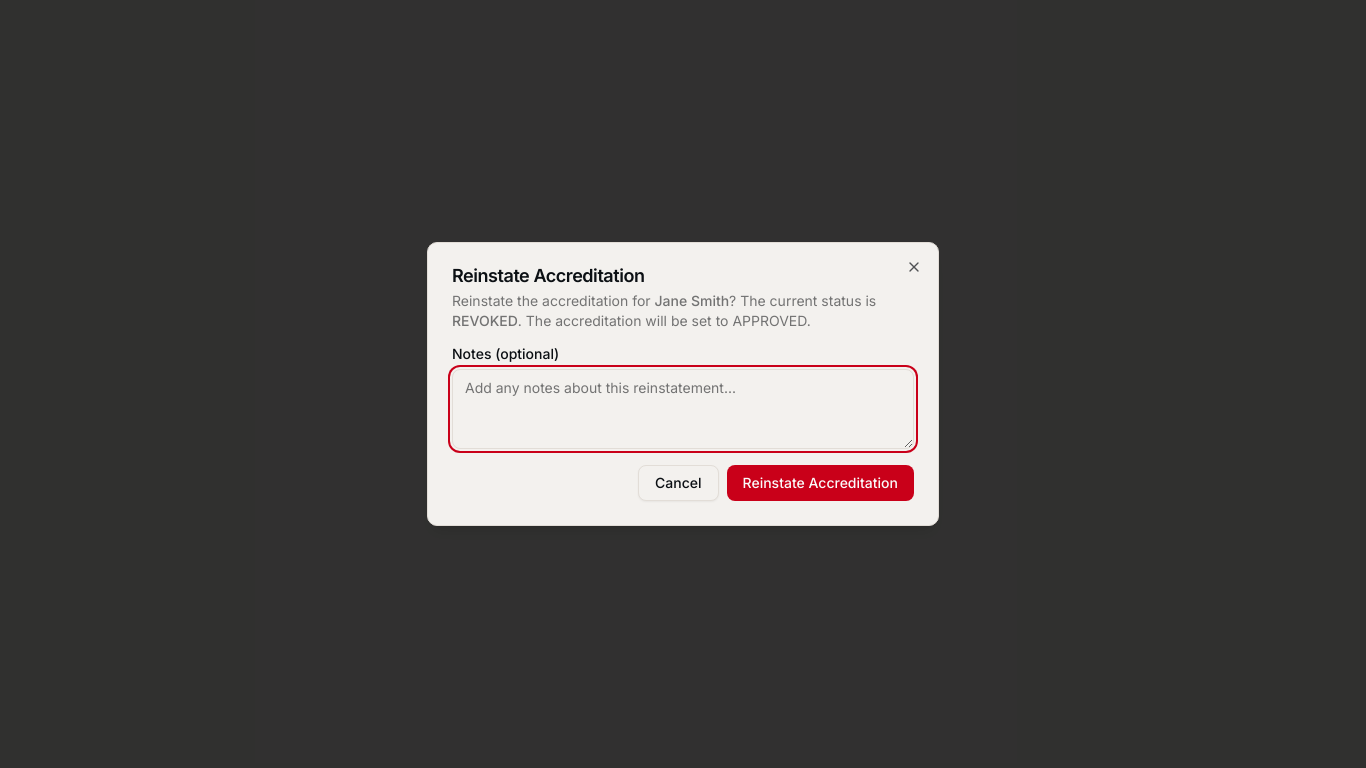
Test: ReinstateDialog › displays error message when API returns an error
The image size is (1366, 768).
Click the button "Reinstate Accreditation" at (820, 483), box [726,465,914,501]
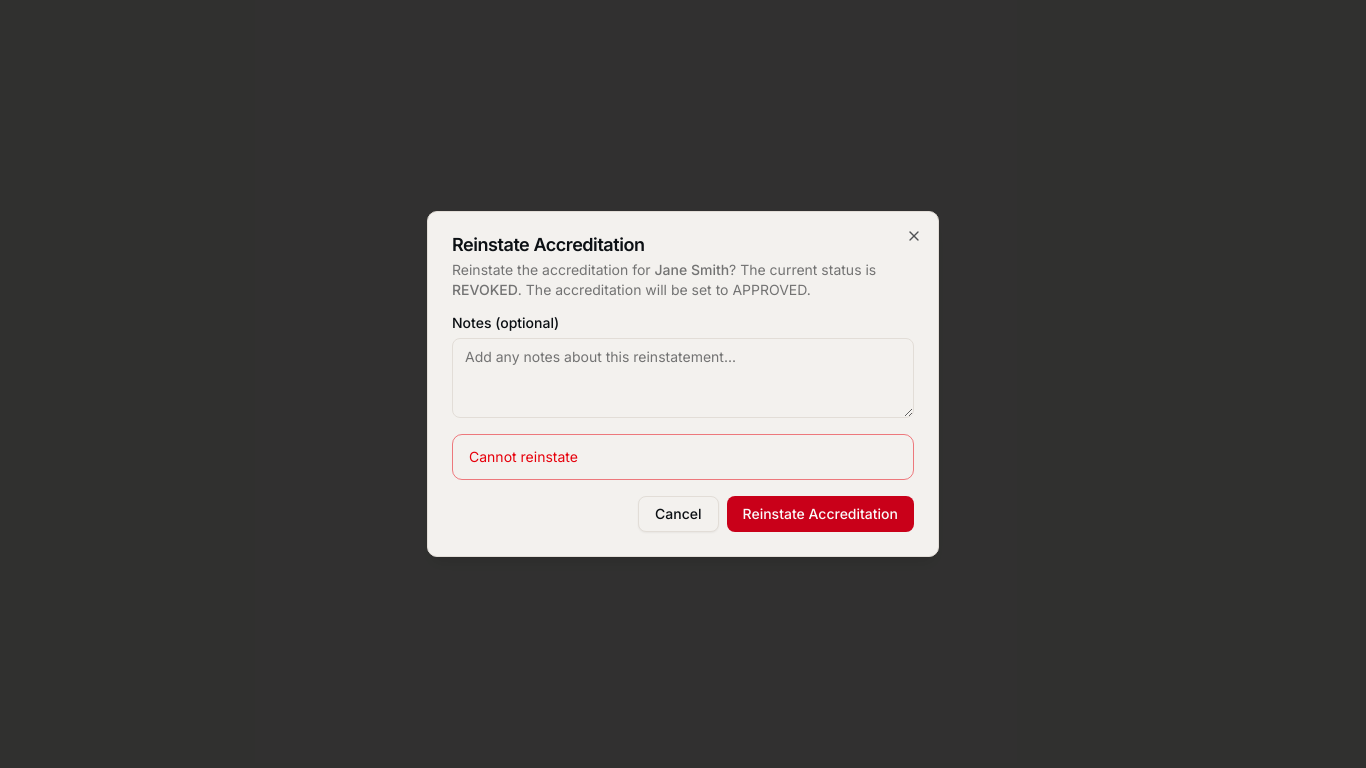
Result: the text "Cannot reinstate" is shown at [469,448,578,465]
